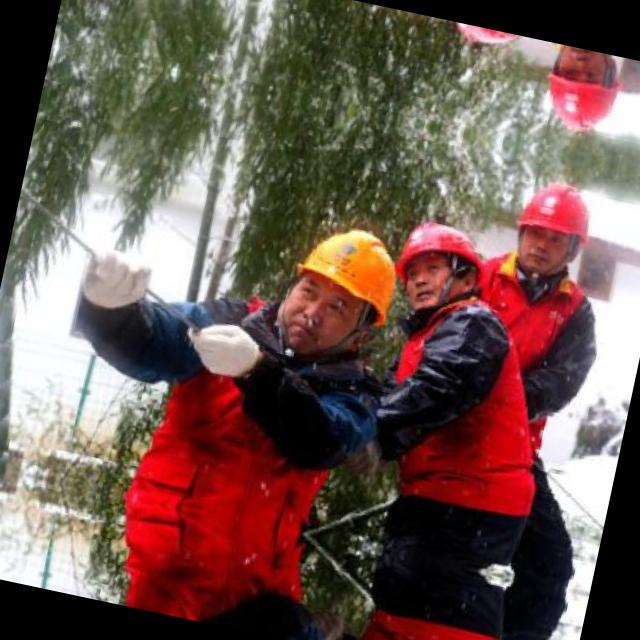helmet: (266, 210, 414, 374), (381, 204, 498, 328), (501, 166, 609, 294), (532, 42, 636, 146), (438, 19, 538, 62)
